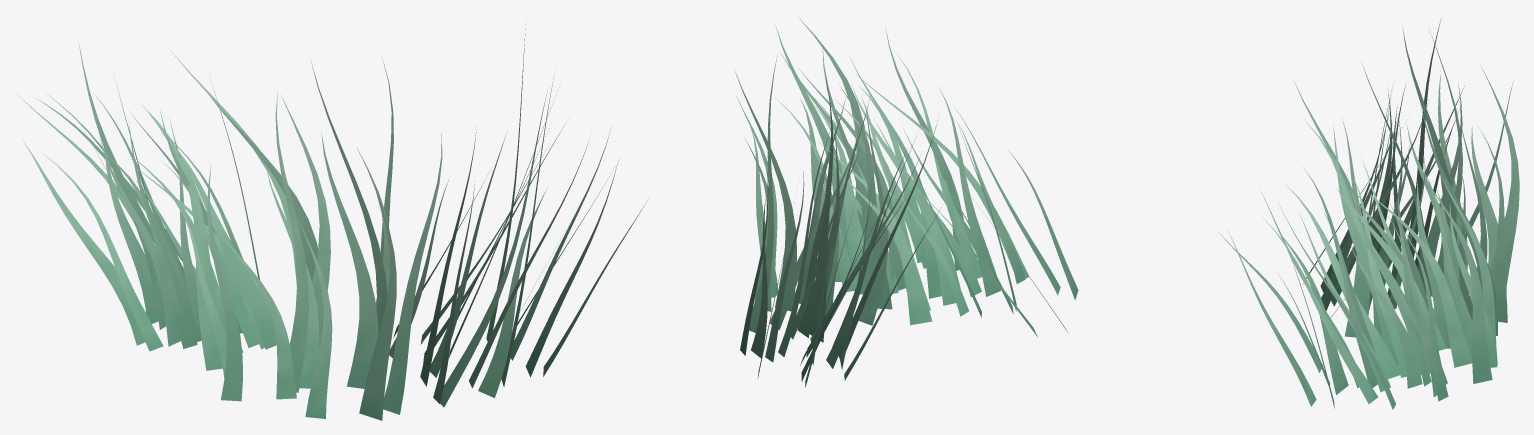
Rendered from mesh-plant-016-amber-tuft_LOD0.glb.
The picture shows the model from 3 angles, left to right: view 1: azimuth 30°, elevation 25°; view 2: azimuth 150°, elevation 25°; view 3: azimuth 270°, elevation 25°; orthographic projection. The views are drawn at different scales.
Visible parts, largest first — view 1: geometry_0; view 2: geometry_0; view 3: geometry_0.
Part boxes in pixels (box(x1,y1,x2,y2)): geometry_0: box(17, 19, 646, 420); geometry_0: box(735, 16, 1078, 387); geometry_0: box(1217, 18, 1519, 409).
Size of the model in its own units: 1.47 by 0.7753 by 1.11.
